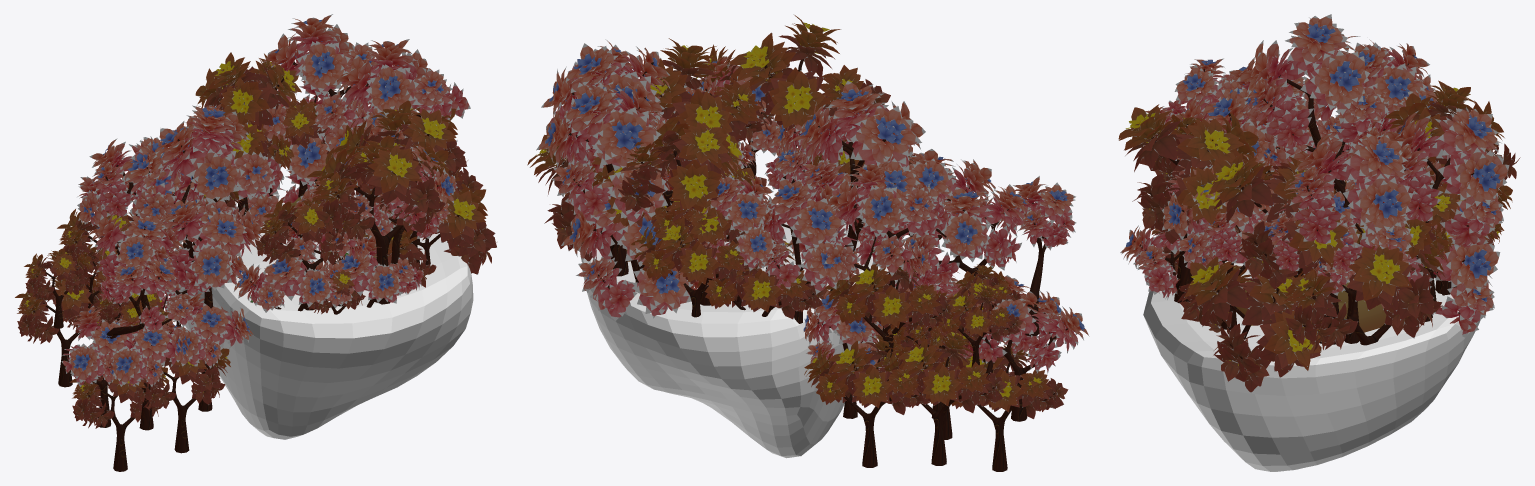
Rendered from Level_Forest.glb.
3 renders of one model, left to right at view 1: azimuth 30°, elevation 25°; view 2: azimuth 150°, elevation 25°; view 3: azimuth 270°, elevation 25°, orthographic. The views are drawn at different scales.
Parts seen in each view (by area): view 1: Cube, TRS1_9, Object_24.002, Object_12.007, Object_24.009, Object_24.005, Object_10.003, Object_12.010, Object_12.011, Object_24.001, Object_36.001, Object_12.006 (+14 smaller); view 2: Cube, TRS1_9, Object_24.005, Object_24.002, Object_24.001, Object_12.007, Object_10.003, Object_24.012, Object_24.013, Object_12.002, Object_12.010, Object_12.003 (+17 smaller); view 3: Cube, Object_24.002, Object_24.005, Object_24.009, Object_12.007, Object_12.012, Object_12.011, Object_12.010, TRS1_9, Object_24.012, Object_10.003, Object_24.001 (+9 smaller).
Boxes of the visible parts, x1,y1,x2,y2 form: Cube: (179,203,473,439); TRS1_9: (61,199,423,430); Object_24.002: (120,105,284,261); Object_12.007: (306,135,450,304); Object_24.009: (317,39,470,161); Object_24.005: (263,14,378,141); Object_10.003: (195,52,315,195); Object_12.010: (333,100,467,212); Object_12.011: (365,183,496,291); Object_24.001: (77,136,180,255); Object_36.001: (97,254,193,343); Object_12.006: (255,195,356,310); Cube: (582,204,896,458); TRS1_9: (764,147,1089,421); Object_24.005: (536,78,672,276); Object_24.002: (789,81,931,291); Object_24.001: (807,161,950,334); Object_12.007: (693,14,890,203); Object_10.003: (617,116,767,242); Object_24.012: (561,178,702,320); Object_24.013: (752,177,859,323); Object_12.002: (804,334,930,467); Object_12.010: (650,38,774,142); Object_12.003: (873,332,1007,465); Cube: (1143,261,1480,471); Object_24.002: (1236,14,1389,192); Object_24.005: (1364,107,1509,321); Object_24.009: (1271,133,1417,344); Object_12.007: (1118,104,1258,303); Object_12.012: (1284,224,1448,353); Object_12.011: (1177,256,1321,392); Object_12.010: (1208,151,1348,289); TRS1_9: (1120,57,1351,299); Object_24.012: (1381,199,1500,337); Object_10.003: (1384,80,1520,294); Object_24.001: (1333,39,1435,146).
Bounding box in the file's own units: 690 × 527 × 472.
